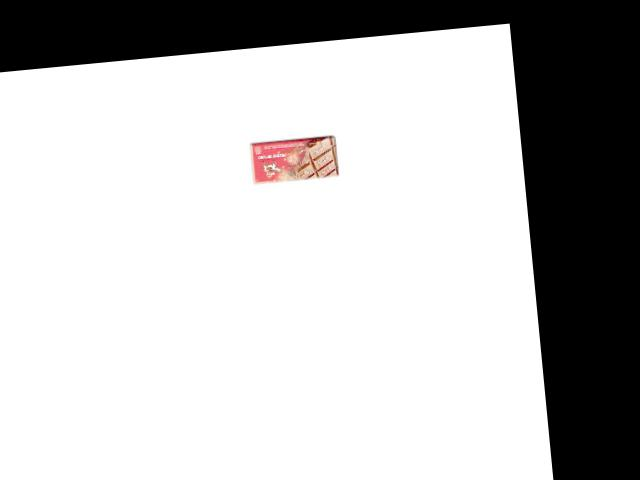chocolate: (248, 133, 341, 186)
